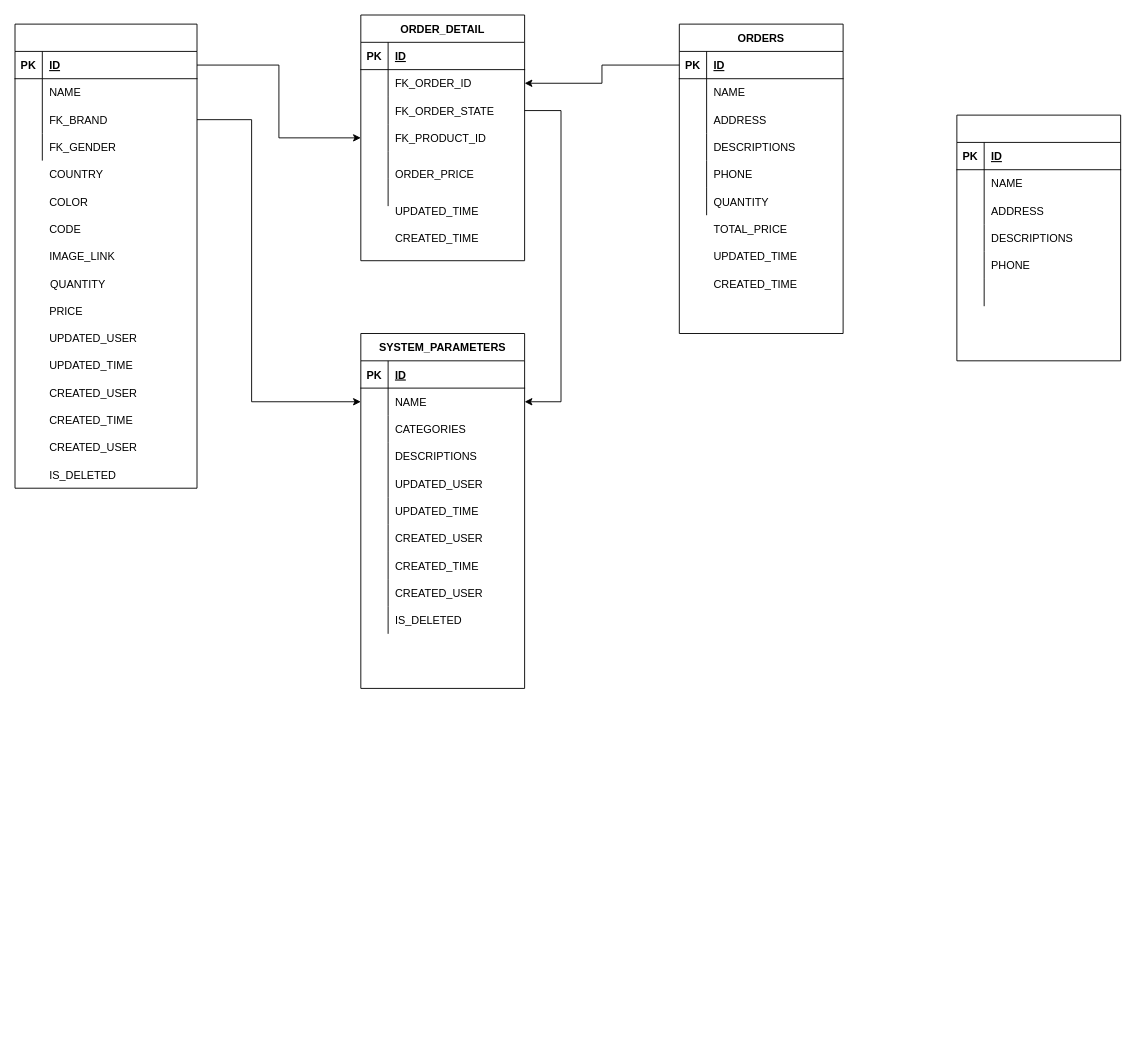
Some shapes in this 1136 by 1049 pixel diagram are drawn without their labels. The box of each missing label's shape, as (x1, y1, x2, y2) in pixels:
COMPANY_INFO: (956, 114, 1121, 361)
PRODUCTS: (14, 23, 197, 488)
